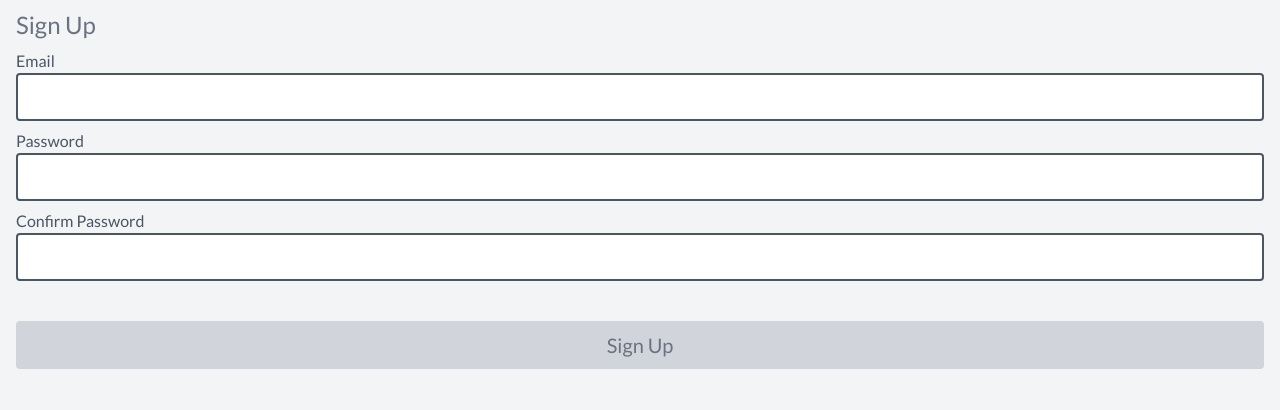
SignupComponent › Email is invalid
The width and height of the screenshot is (1280, 410).
Type "user" into the field labelled "Email".
click(640, 97); type("user")  # box [16, 73, 1264, 121]
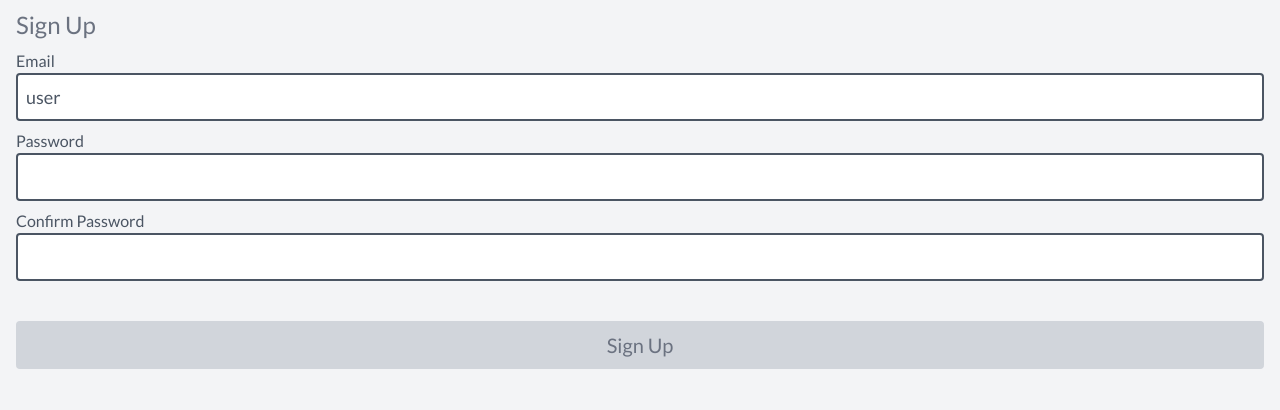
Type "Password#123" into the password field labelled "Password".
click(640, 177); type("Password#123")  # box [16, 153, 1264, 201]
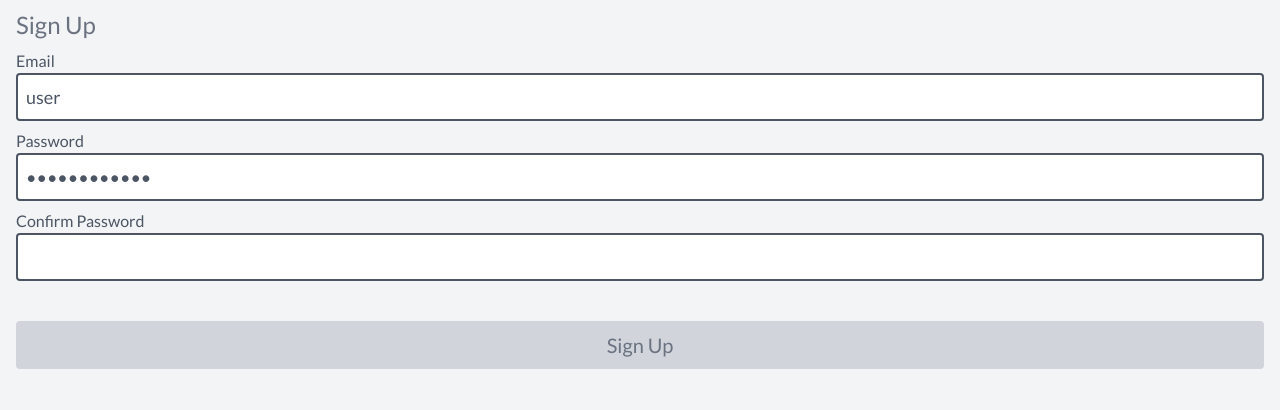
Type "Password#123" into the password field labelled "Confirm Password".
click(640, 257); type("Password#123")  # box [16, 233, 1264, 281]
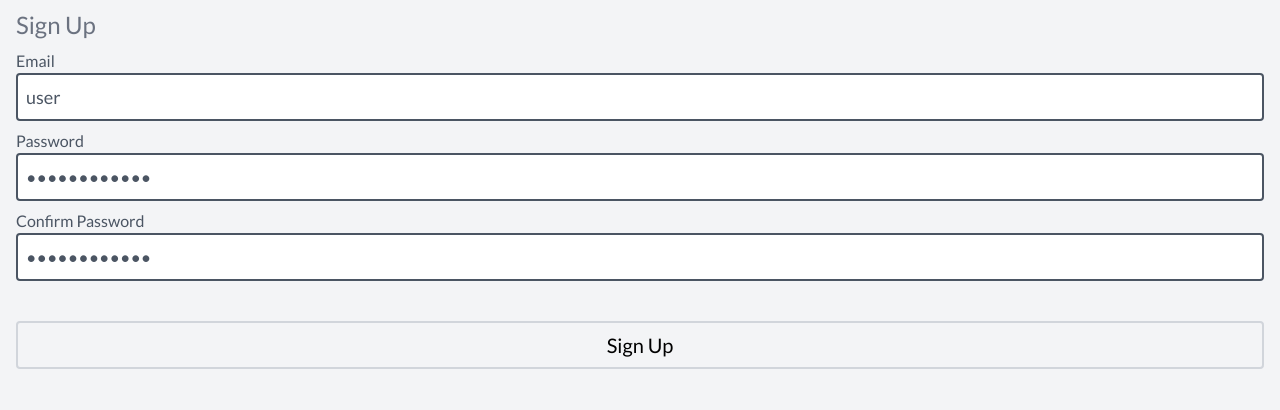
Click the button with id "btn_submit".
click(640, 345)  # box [16, 321, 1264, 369]
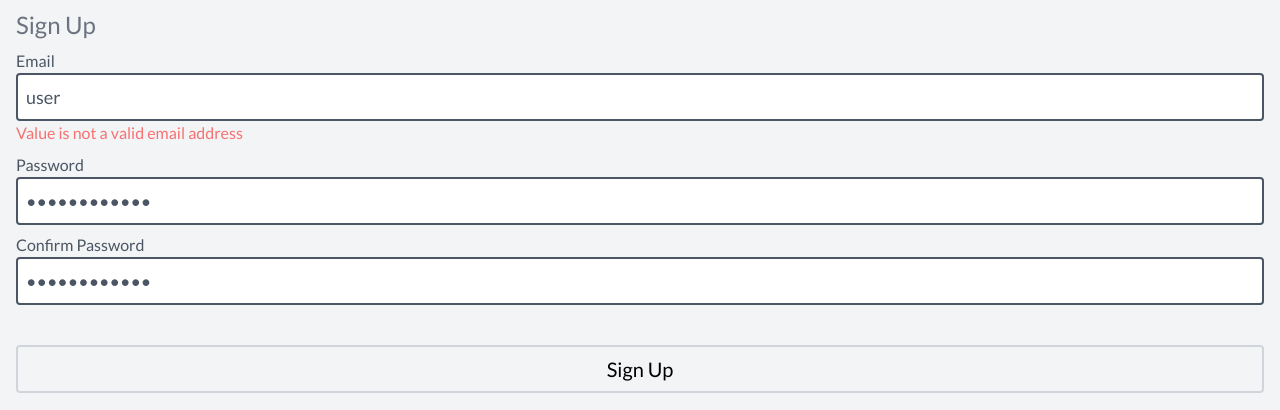
Check: the text "Value is not a valid email address" is shown, box [16, 123, 243, 142]
